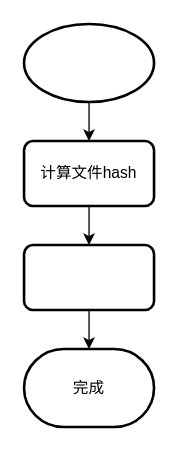
This 177x450 diagram has some shape labels left out. The shapes that lost their labels are listed below. From the top down, each one's centre as x and y in pixels, then its label:
At (88,62): "用户上传csv文件".
At (88,277): "调用数据存证接口上链".
